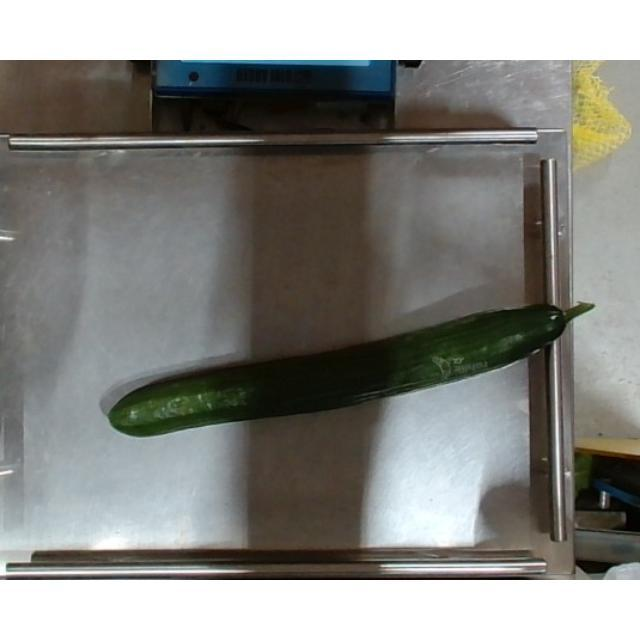cucumber: (107, 302, 595, 438)
